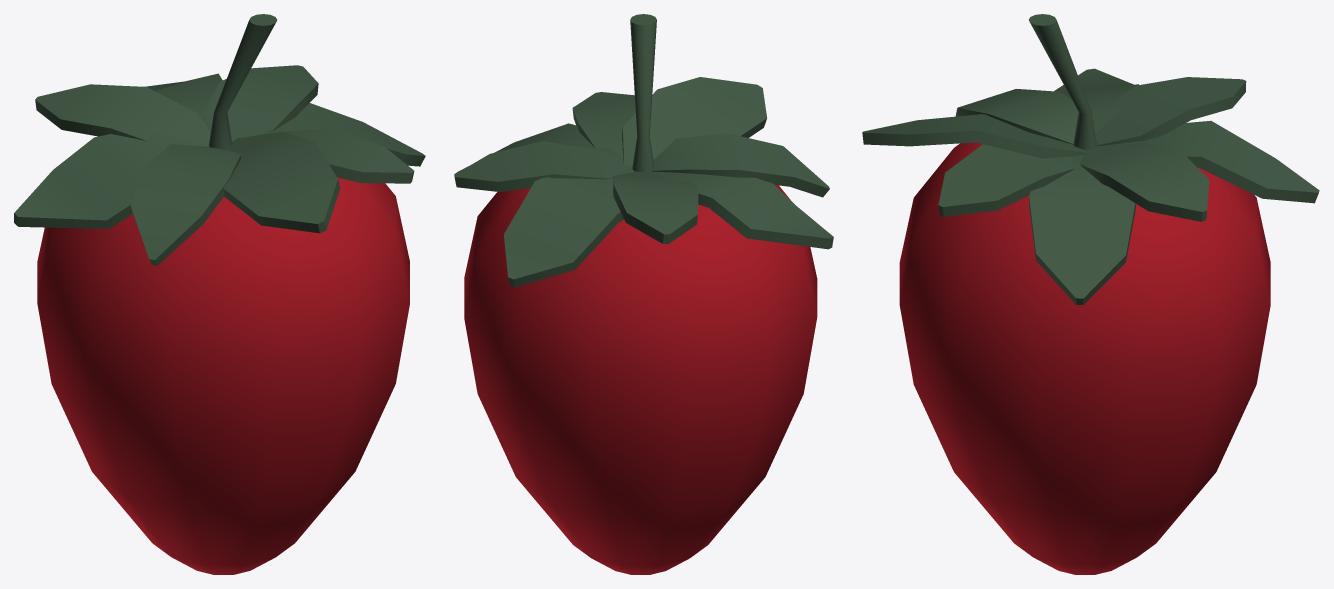
Rendered from Strawberry.fbx.
3 renders of one model, left to right at view 1: azimuth 30°, elevation 25°; view 2: azimuth 150°, elevation 25°; view 3: azimuth 270°, elevation 25°, orthographic. The views are drawn at different scales.
Parts seen in each view (by area): view 1: Strawberry.002; view 2: Strawberry.002; view 3: Strawberry.002.
Part boxes in pixels (x1,y1,x2,y2): Strawberry.002: (14,14,425,574); Strawberry.002: (454,14,833,574); Strawberry.002: (862,14,1319,574).
Size of the model in its own units: 11.57 by 11.43 by 15.37.
Materials: 1 (1 with a texture image).
